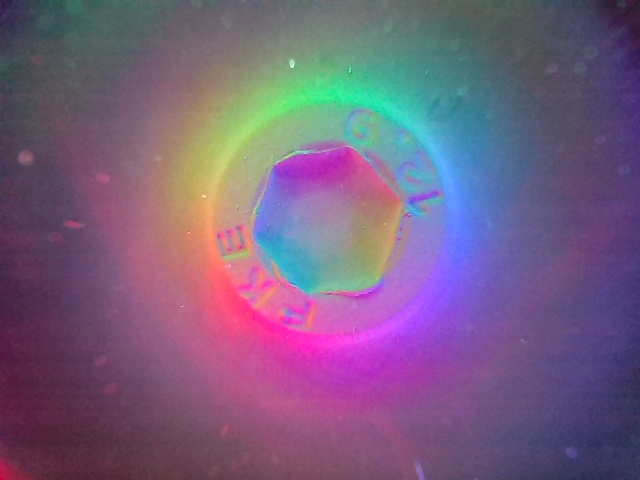contact: (215, 103, 444, 338)
